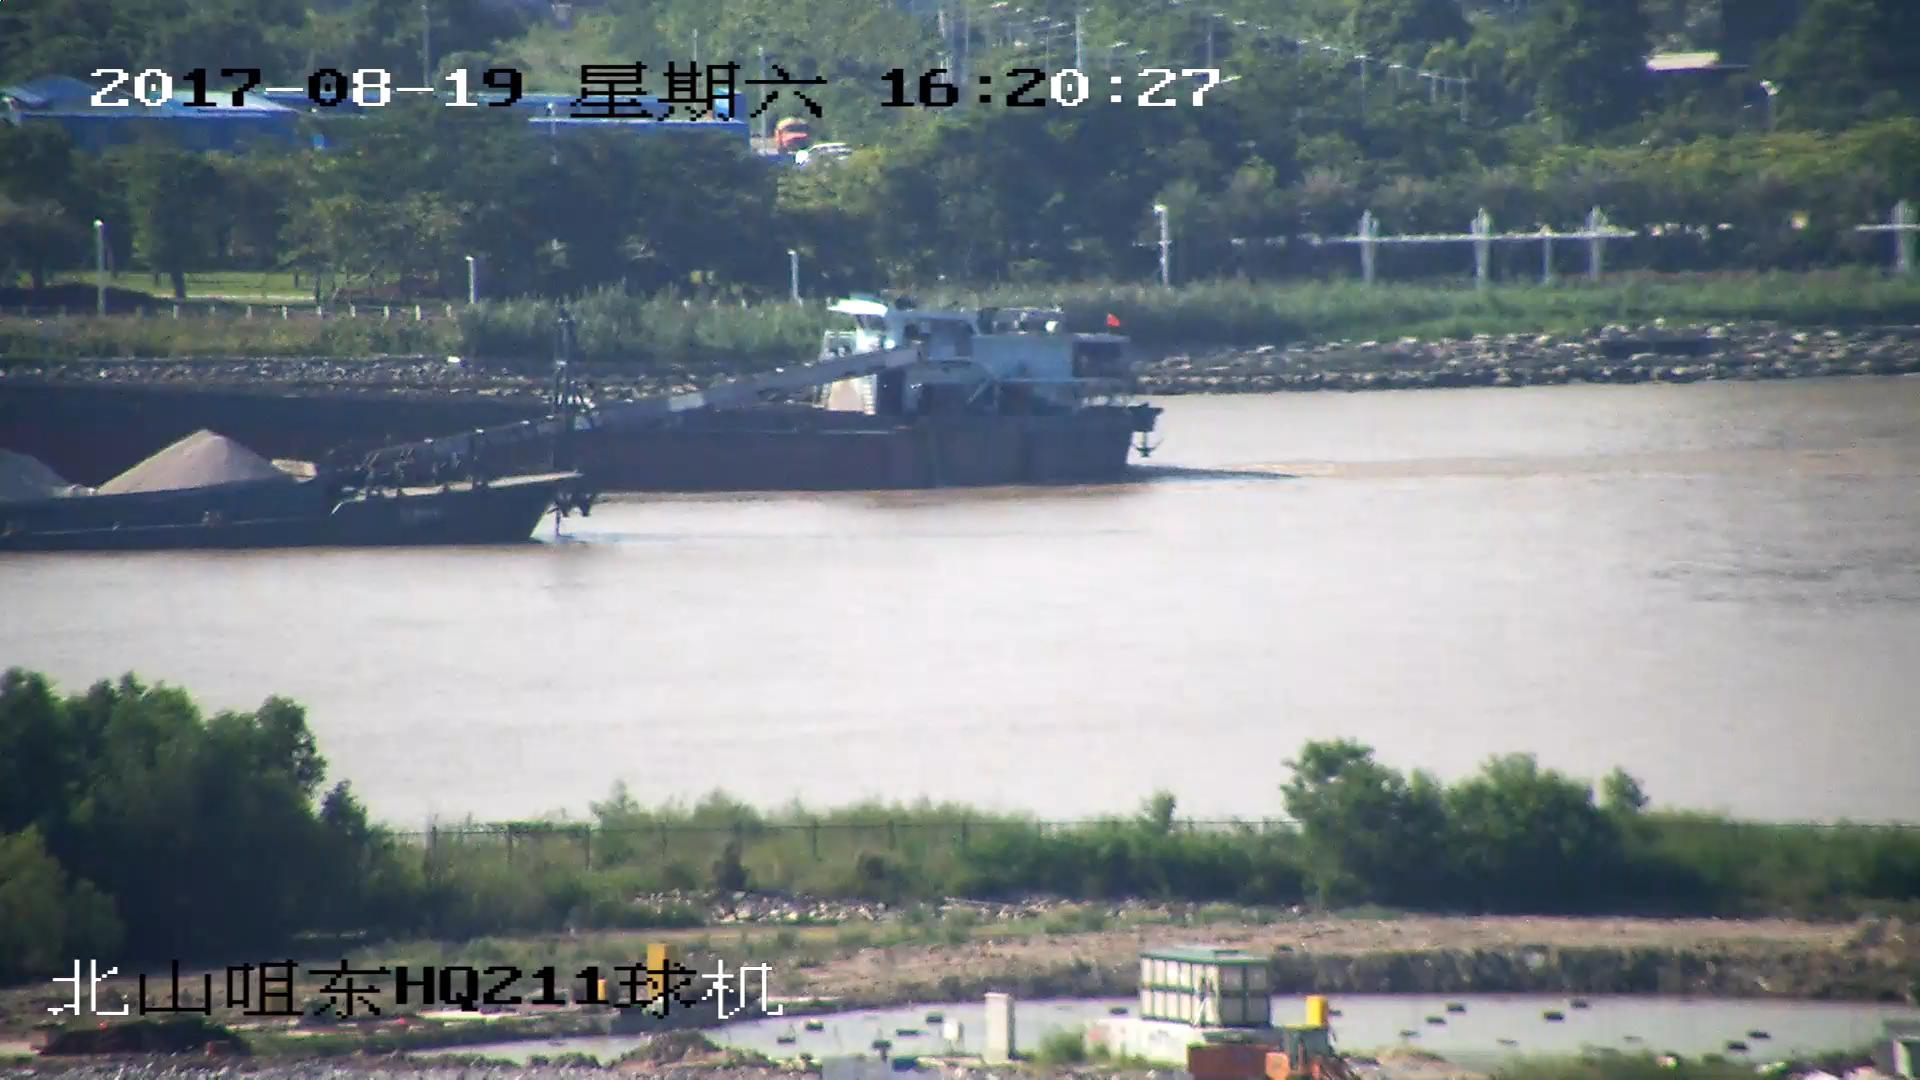Ship: (3, 301, 1156, 477), (3, 349, 911, 555)
